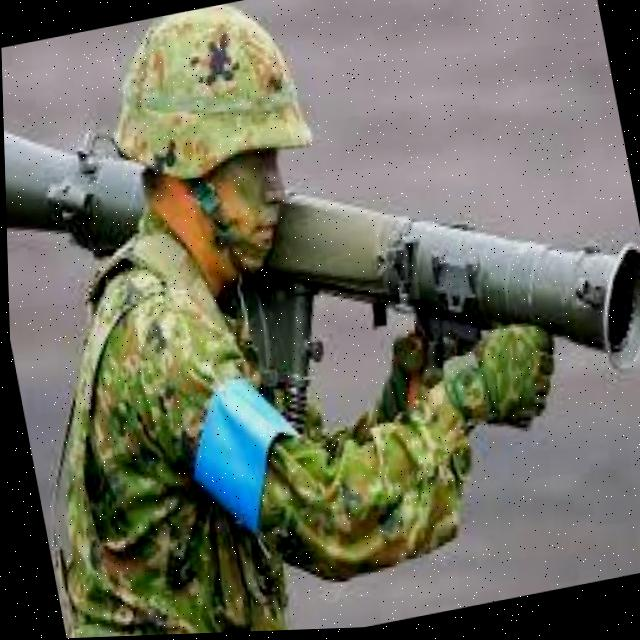rocket: (245, 124, 640, 438)
